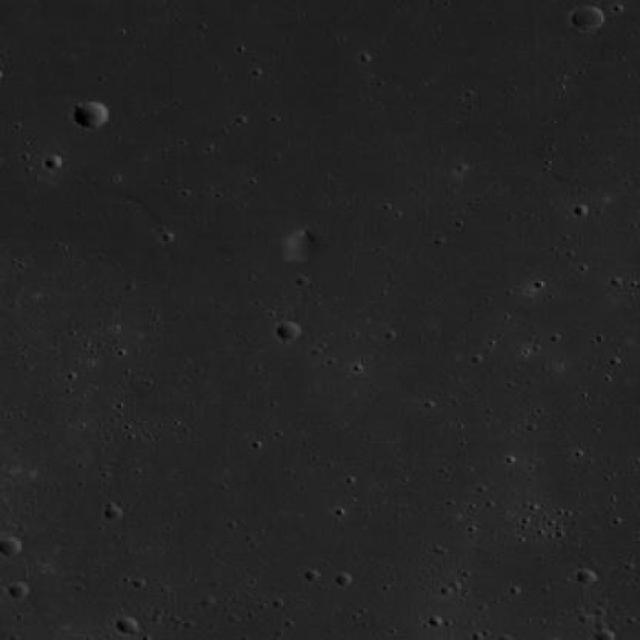crater: (73, 99, 110, 128), (572, 4, 605, 30), (276, 320, 299, 340), (0, 536, 22, 556), (116, 616, 139, 635)
